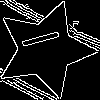I: (20, 24, 70, 50)
